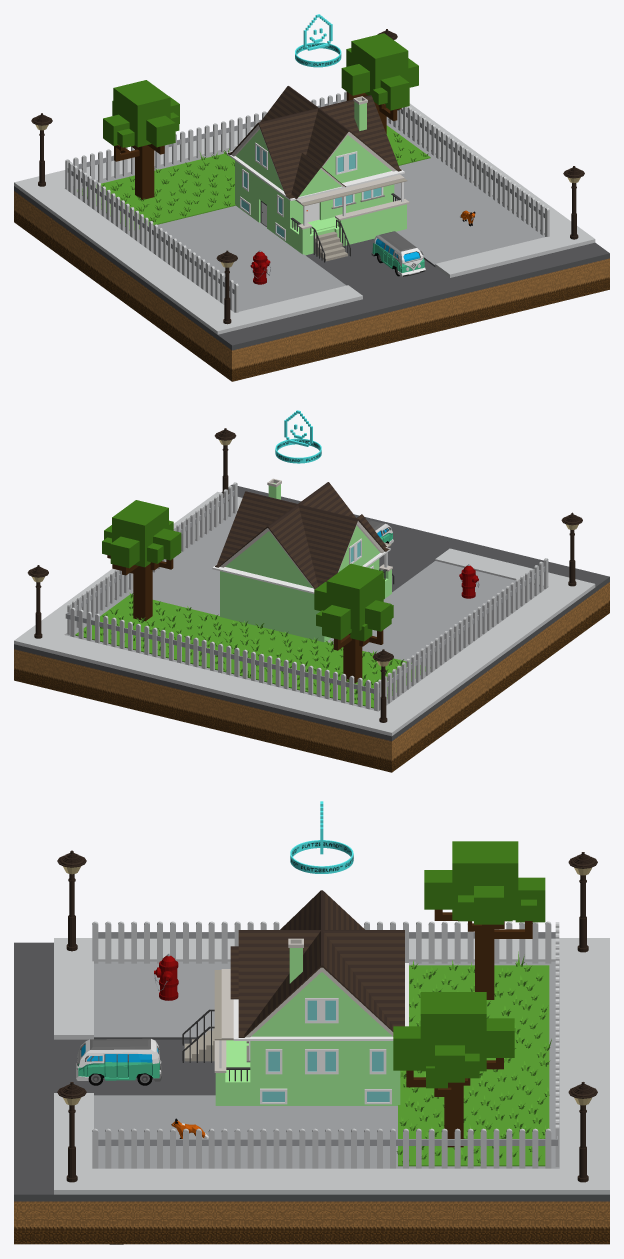
3 renders of one model, top to bottom at view 1: azimuth 30°, elevation 25°; view 2: azimuth 150°, elevation 25°; view 3: azimuth 270°, elevation 25°, orthographic. The views are drawn at different scales.
Visible parts, largest first — view 1: Cube.004, Cube.274, VEHICLES_VAN, TYPE_PREMIUM, OBJRANDOM_FIRE_HYDRANT; view 2: Cube.004, Cube.274, TYPE_PREMIUM, OBJRANDOM_FIRE_HYDRANT; view 3: Cube.004, Cube.274, VEHICLES_VAN, TYPE_PREMIUM, OBJRANDOM_FIRE_HYDRANT.
Boxes of the visible parts, <box> form: Cube.004: <box>14,29,609,381</box>; Cube.274: <box>226,86,409,262</box>; VEHICLES_VAN: <box>371,231,425,276</box>; TYPE_PREMIUM: <box>295,14,341,67</box>; OBJRANDOM_FIRE_HYDRANT: <box>250,250,270,284</box>; Cube.004: <box>14,428,609,772</box>; Cube.274: <box>212,478,394,642</box>; TYPE_PREMIUM: <box>275,410,321,463</box>; OBJRANDOM_FIRE_HYDRANT: <box>459,564,479,598</box>; Cube.004: <box>14,841,609,1244</box>; Cube.274: <box>182,890,408,1105</box>; VEHICLES_VAN: <box>76,1038,161,1085</box>; TYPE_PREMIUM: <box>290,801,353,873</box>; OBJRANDOM_FIRE_HYDRANT: <box>154,953,178,1000</box>.
Size of the model in its own units: 4000 by 2440 by 4000.
Materials: 37 (4 with a texture image).
